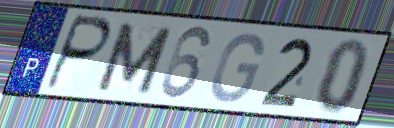0: (312, 36, 372, 116)
2: (259, 36, 314, 109)
6: (159, 24, 212, 102)
G: (208, 30, 266, 105)
M: (93, 20, 177, 96)
P: (42, 13, 115, 93)
